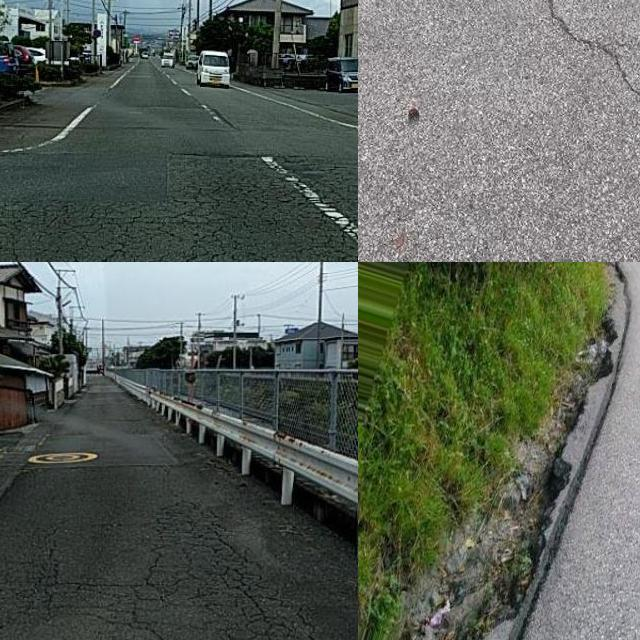Memanjang: (469, 0, 640, 167)
Pinggir: (429, 273, 640, 640)
Retak Buaya: (0, 158, 358, 262), (124, 488, 318, 640)
